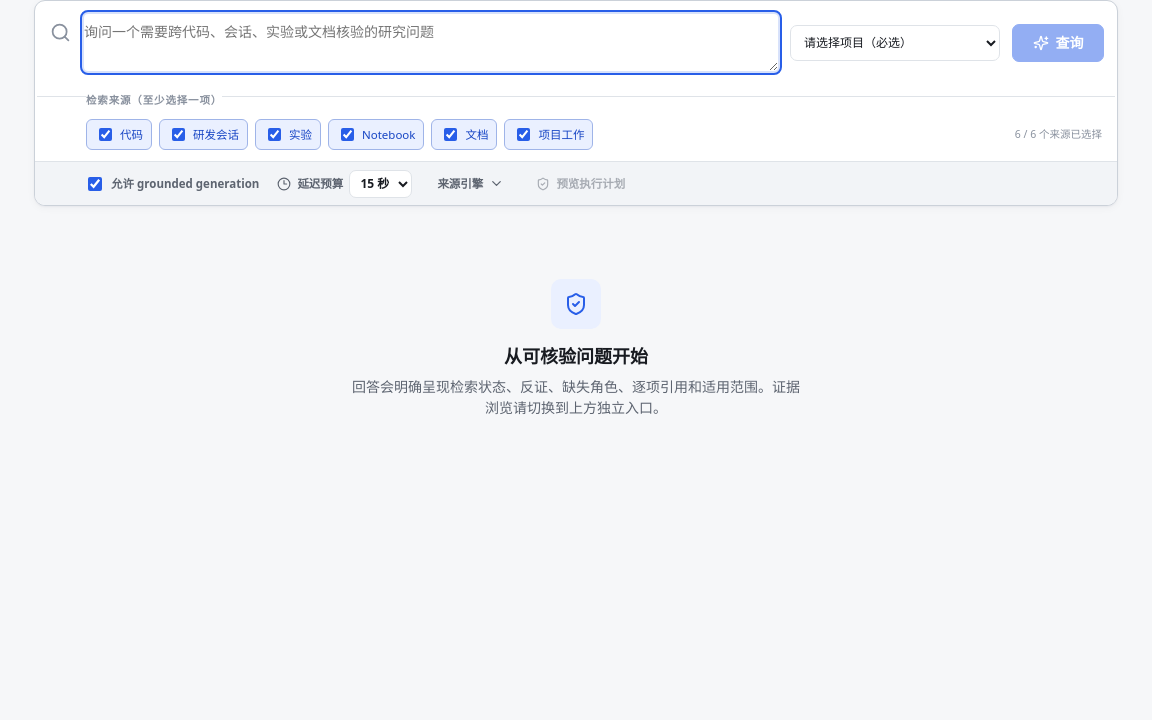
Test case: TrustedQueryPanel › cancels an in-flight request without issuing a duplicate submission
The width and height of the screenshot is (1152, 720).
Select "Evidence RAG" in the dropdown named "可信查询项目" at (895, 43), box [790, 25, 1000, 61]
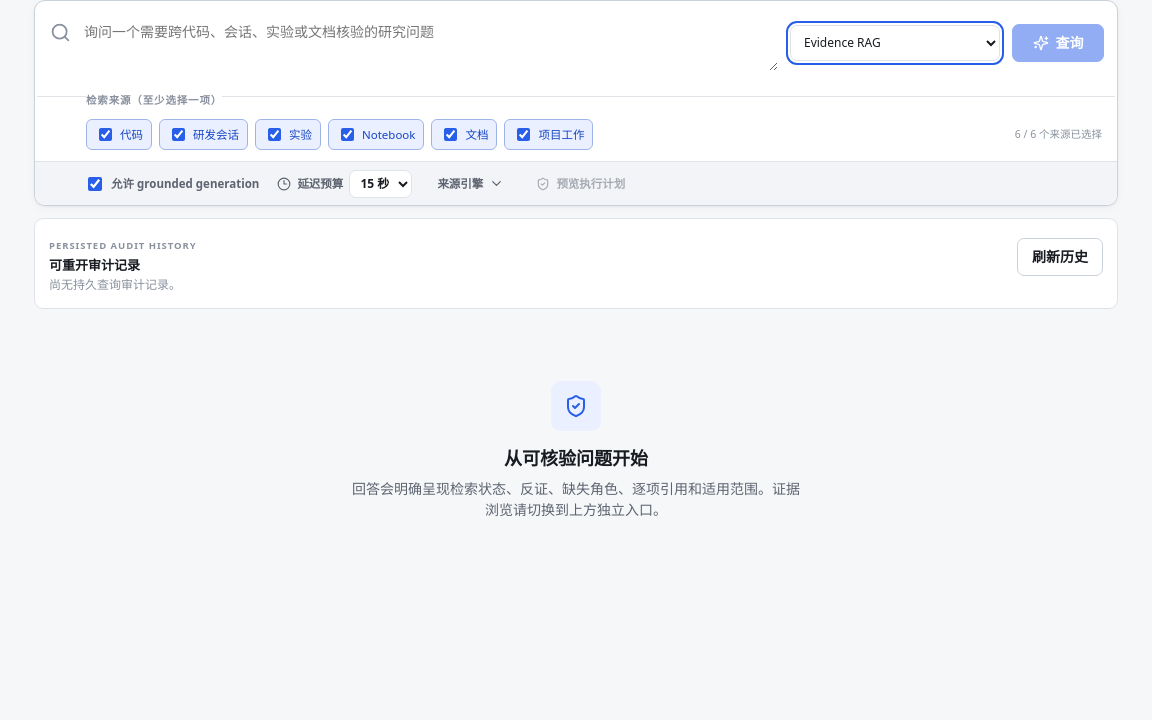
Type "Long running query" into the text box named "可信查询问题".
click(431, 43); type("Long running query")  # box [84, 14, 778, 71]
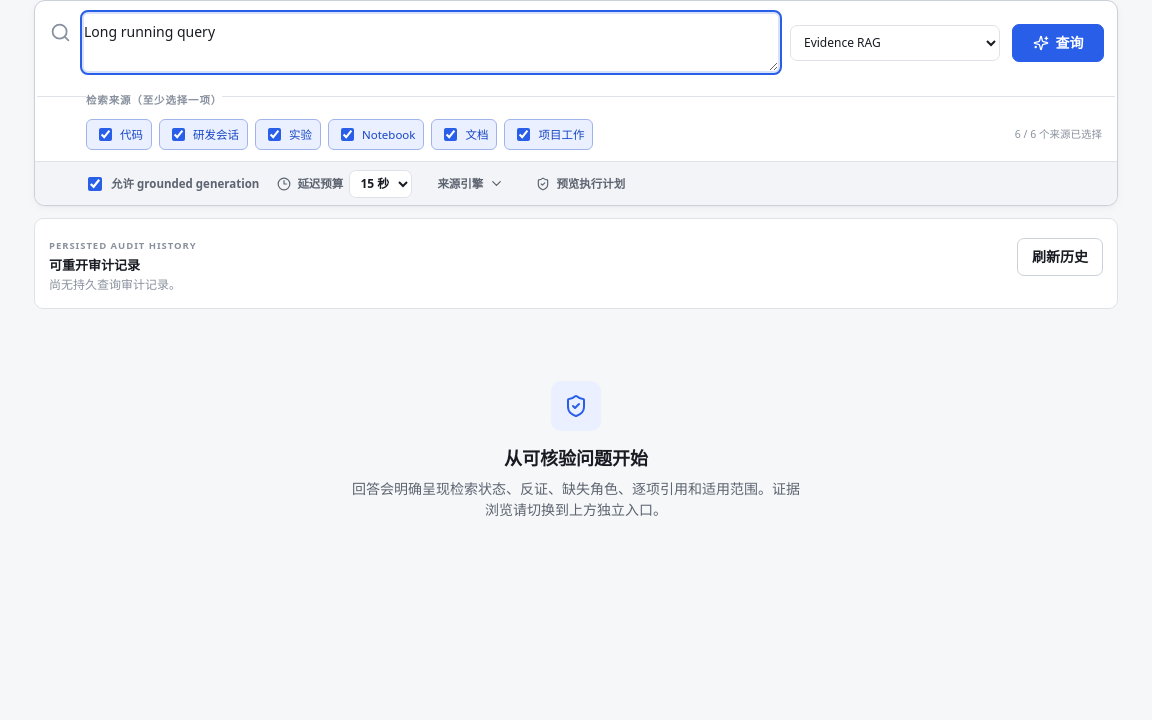
Click the button "查询".
click(1058, 43)  # box [1012, 24, 1104, 62]
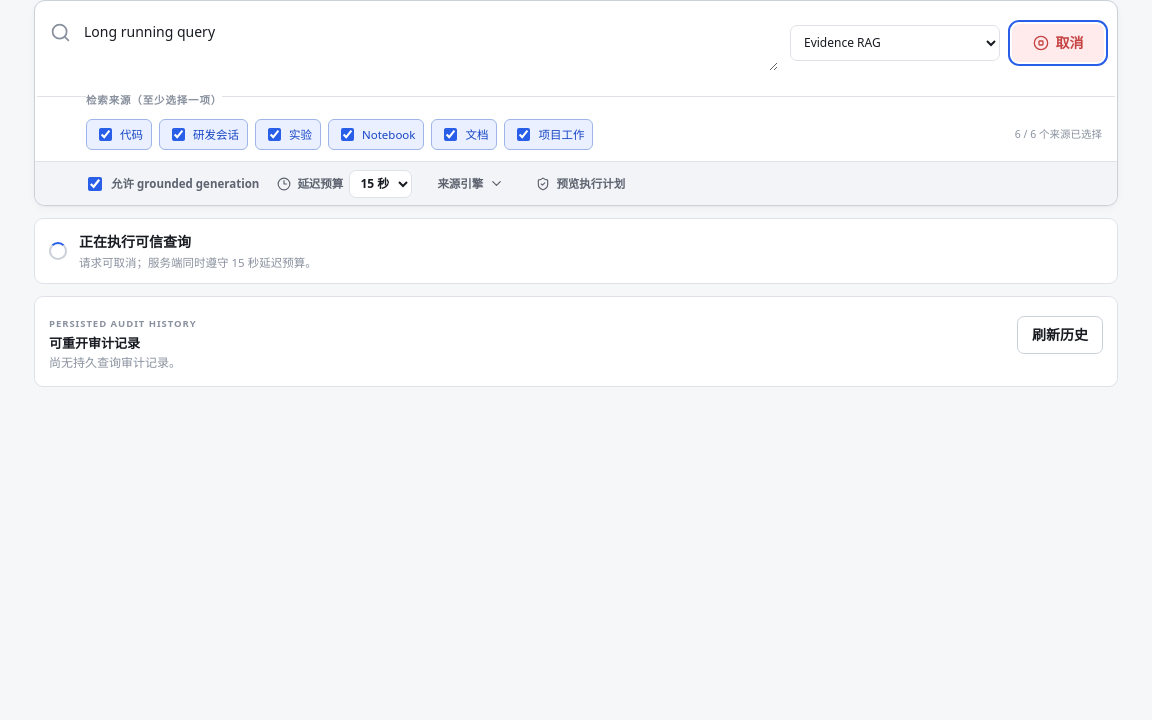
Click the button "取消".
click(1058, 43)  # box [1012, 24, 1104, 62]
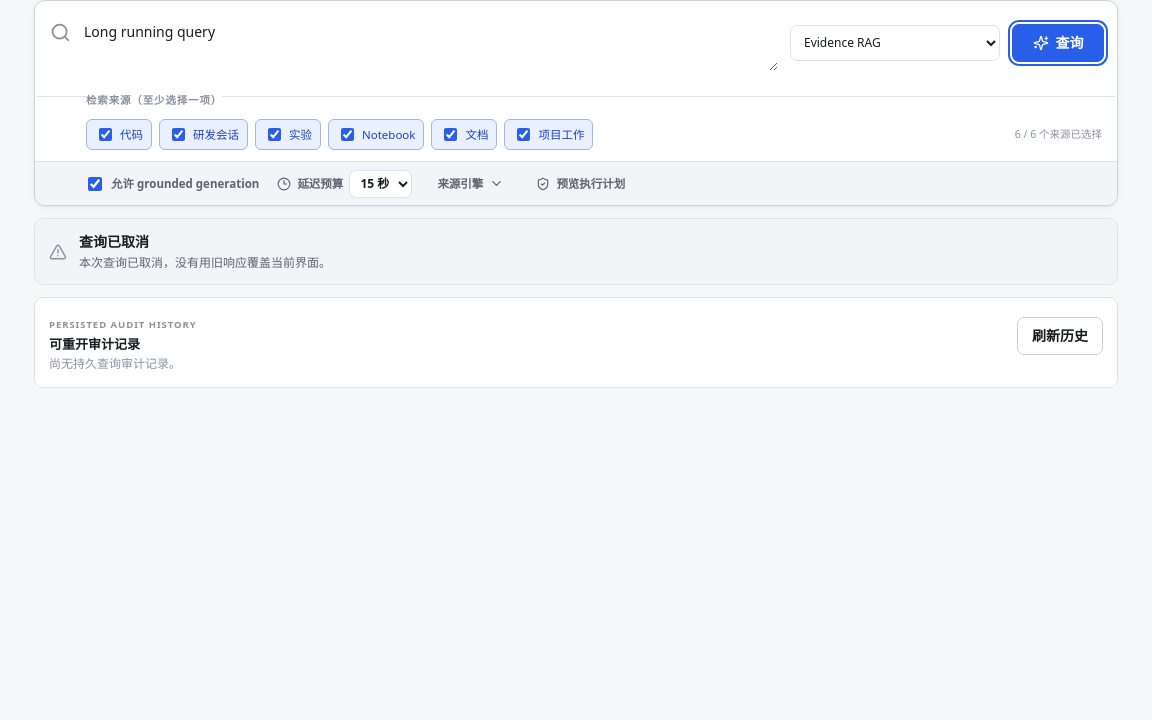
Result: the text "查询已取消" is shown at [79, 232, 149, 251]
